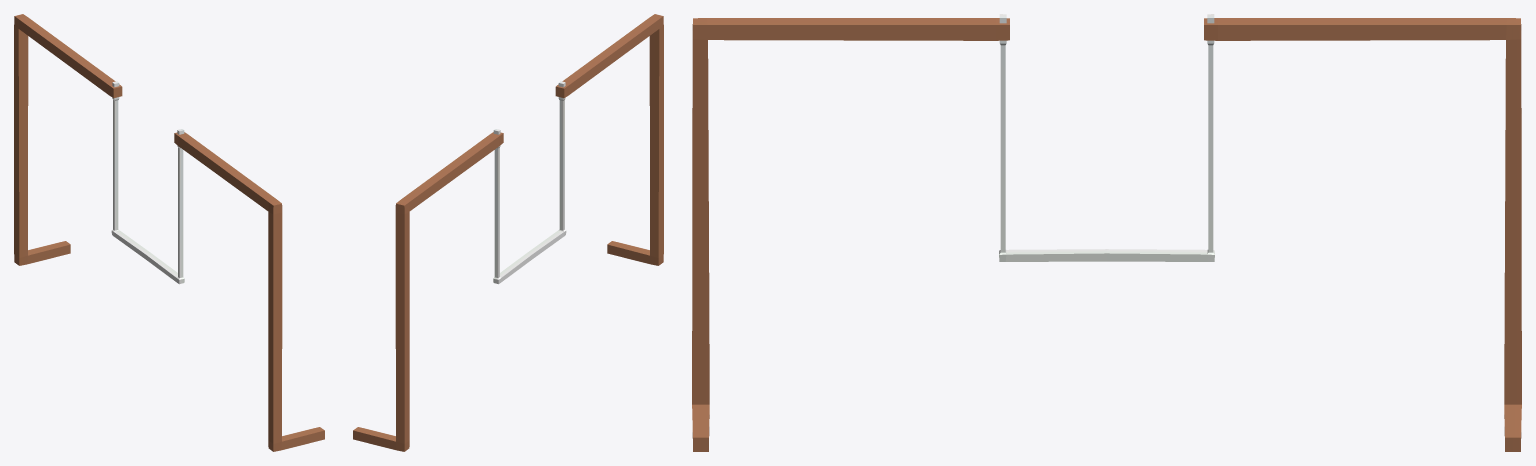
File: ForceonWire.glb
The picture shows the model from 3 angles, left to right: view 1: azimuth 30°, elevation 25°; view 2: azimuth 150°, elevation 25°; view 3: azimuth 270°, elevation 25°; orthographic projection. The views are drawn at different scales.
Visible parts, largest first — view 1: Stand, Conductor; view 2: Stand, Conductor; view 3: Stand, Conductor.
Boxes of the visible parts, <box> form: Stand: <box>14,14,324,451</box>; Conductor: <box>111,81,184,284</box>; Stand: <box>353,14,663,451</box>; Conductor: <box>493,81,566,284</box>; Stand: <box>692,18,1521,451</box>; Conductor: <box>999,14,1214,261</box>.
Bounding box in the file's own units: 0.4421 × 2.04 × 3.84.
Materials: 2 (2 with a texture image).
